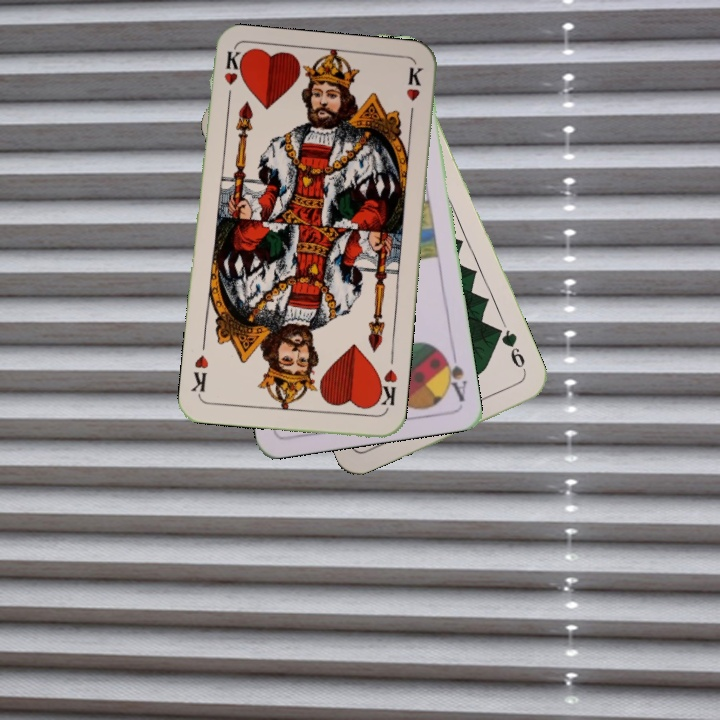G9: (494, 325, 530, 379)
HK: (220, 48, 244, 108), (371, 365, 400, 413)
SA: (437, 346, 470, 405)
